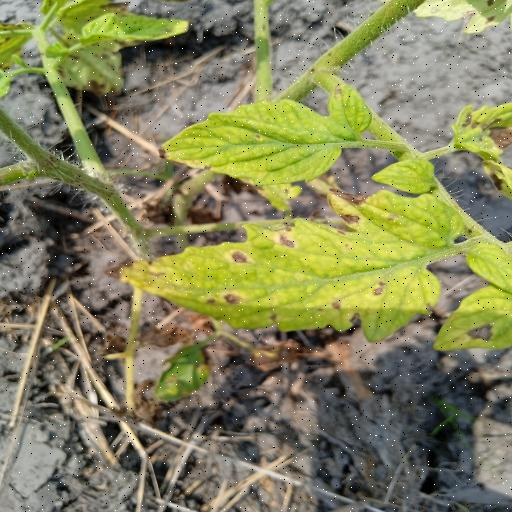Tomato_Brown_Spots: (107, 186, 487, 345), (153, 96, 367, 187)
